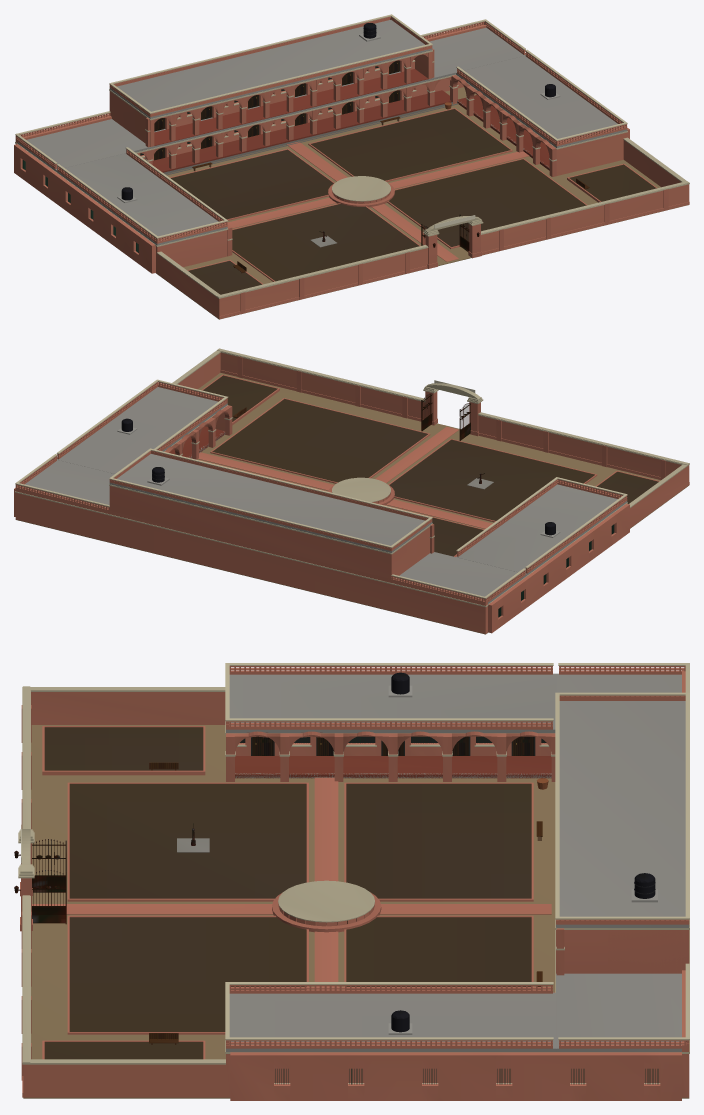
The model's file is gurukul_v2.glb.
3 renders of one model, top to bottom at view 1: azimuth 30°, elevation 25°; view 2: azimuth 150°, elevation 25°; view 3: azimuth 270°, elevation 25°, orthographic. The views are drawn at different scales.
Visible parts, largest first — view 1: hb_main, hb_brick, hb_props; view 2: hb_main, hb_brick, hb_metal; view 3: hb_main, hb_brick, hb_props, hb_metal.
Part boxes in pixels (x1,y1,x2,y2): hb_main: (15, 14, 689, 319); hb_brick: (14, 16, 689, 319); hb_props: (154, 60, 589, 273); hb_main: (15, 348, 689, 634); hb_brick: (14, 352, 689, 633); hb_metal: (421, 393, 484, 599); hb_main: (18, 663, 689, 1098); hb_brick: (20, 666, 689, 1100); hb_props: (149, 736, 542, 1044); hb_metal: (14, 823, 686, 1041).
Size of the model in its own units: 61 by 8.96 by 45.67.
